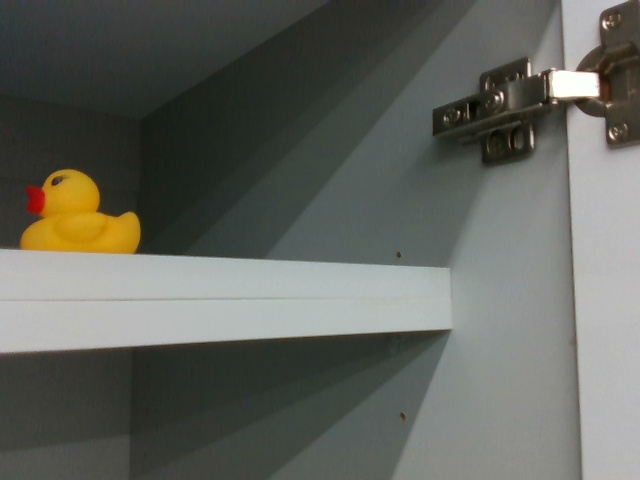duck: (14, 160, 144, 256)
